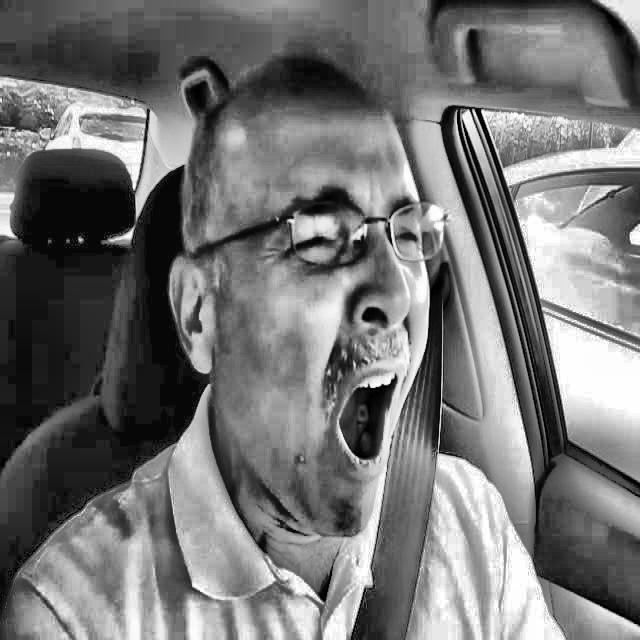closed_eyes: (262, 212, 353, 284), (382, 214, 440, 268)
open_mouth: (314, 343, 413, 501)
